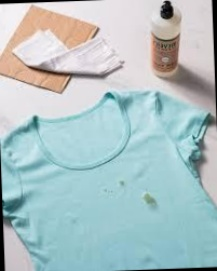oil: (140, 189, 158, 208), (115, 175, 127, 185), (101, 189, 116, 196)
